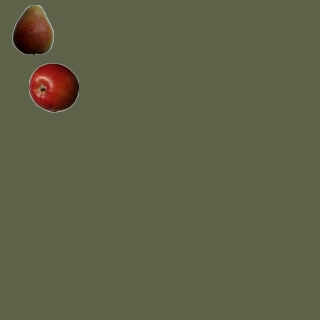Apple Braeburn: (28, 62, 78, 112)
Pear Forelle: (7, 4, 57, 54)
